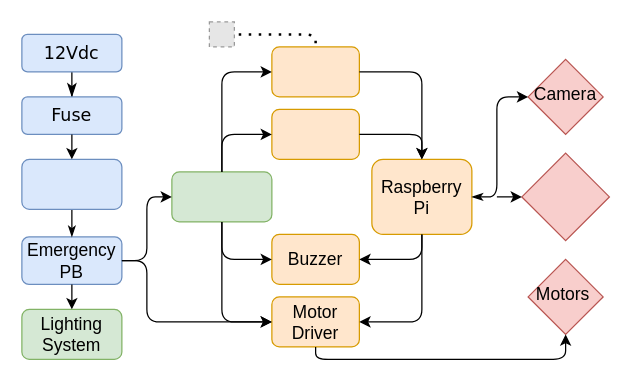
Some shapes in this 631 by 391 pixel diagram are drawn without their labels. Grey dashed boxes stand in for pictures. Here are the shapes that lost their labels. From the top down, the box of each, then its label:
(271, 46, 359, 97): Infrared Receiver
(271, 108, 359, 159): Obstacle Detection
(21, 158, 122, 209): Bump SW
(171, 171, 272, 222): Voltage Regulator
(521, 152, 609, 241): LCD Screen
